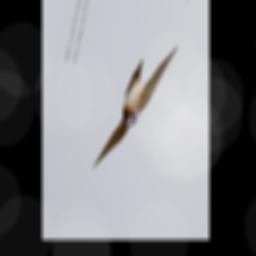Swallow: (93, 24, 181, 191)
